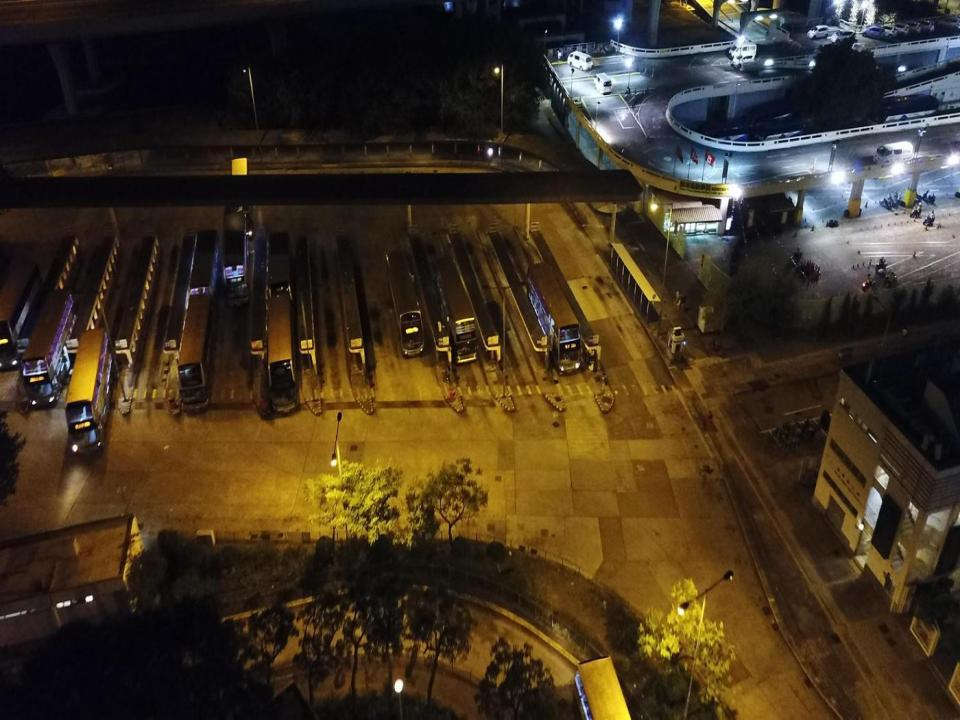bus: (20, 288, 77, 406), (65, 329, 116, 456), (526, 263, 582, 376), (0, 260, 46, 366), (178, 292, 216, 412), (436, 258, 478, 362), (573, 654, 639, 719), (386, 250, 424, 356), (266, 296, 298, 416), (223, 208, 249, 309), (867, 95, 938, 131), (267, 229, 296, 314), (190, 228, 219, 299), (695, 119, 749, 148), (756, 118, 804, 148), (748, 99, 796, 129)
car: (455, 134, 493, 156), (831, 28, 855, 42), (732, 52, 755, 66), (862, 26, 886, 39), (938, 16, 960, 30), (807, 24, 828, 38), (880, 25, 898, 38), (916, 20, 935, 32), (905, 21, 922, 34), (891, 23, 909, 35)
van: (874, 140, 912, 166), (730, 41, 756, 60), (567, 52, 593, 70), (593, 72, 612, 94)
